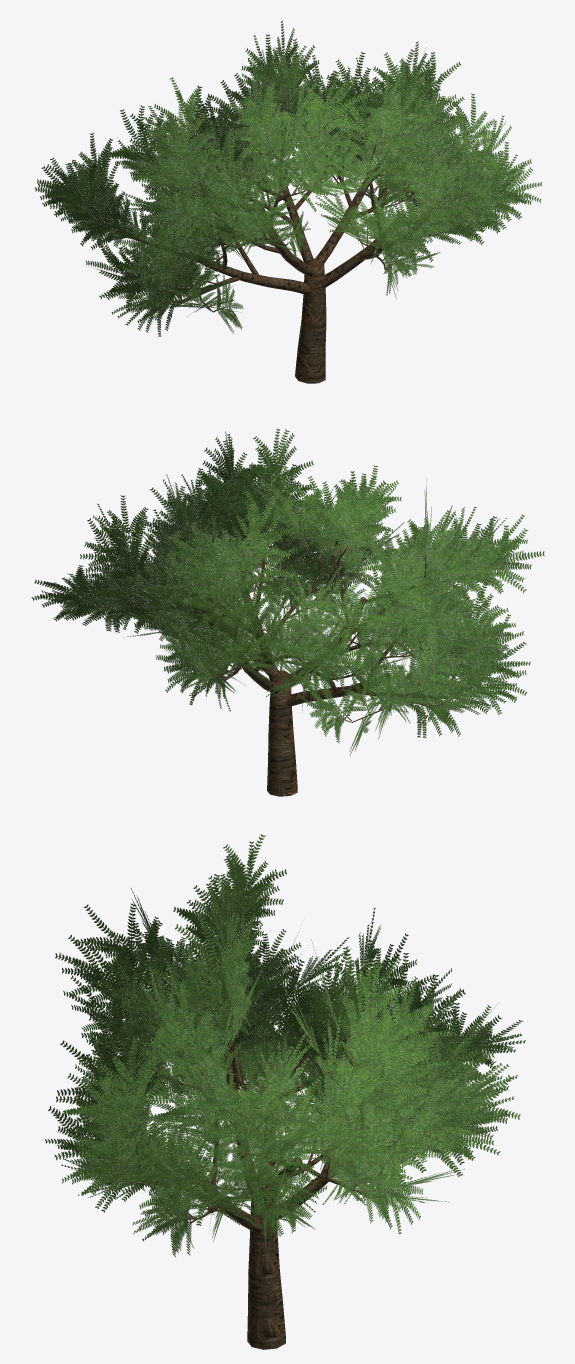
Rendered from veg_tree_rain_a.glb.
3 renders of one model, top to bottom at view 1: azimuth 30°, elevation 25°; view 2: azimuth 150°, elevation 25°; view 3: azimuth 270°, elevation 25°, orthographic. The views are drawn at different scales.
Visible parts, largest first — view 1: Leaves, Trunk; view 2: Leaves, Trunk; view 3: Leaves, Trunk.
Part boxes in pixels (x1=…): Leaves: x1=35, y1=20, x2=541, y2=336; Trunk: x1=103, y1=128, x2=465, y2=383; Leaves: x1=31, y1=428, x2=544, y2=754; Trunk: x1=120, y1=529, x2=461, y2=796; Leaves: x1=45, y1=834, x2=525, y2=1257; Trunk: x1=135, y1=944, x2=429, y2=1349.
Bounding box in the file's own units: 65.83 × 48.5 × 54.92.
Materials: 2 (2 with a texture image).
